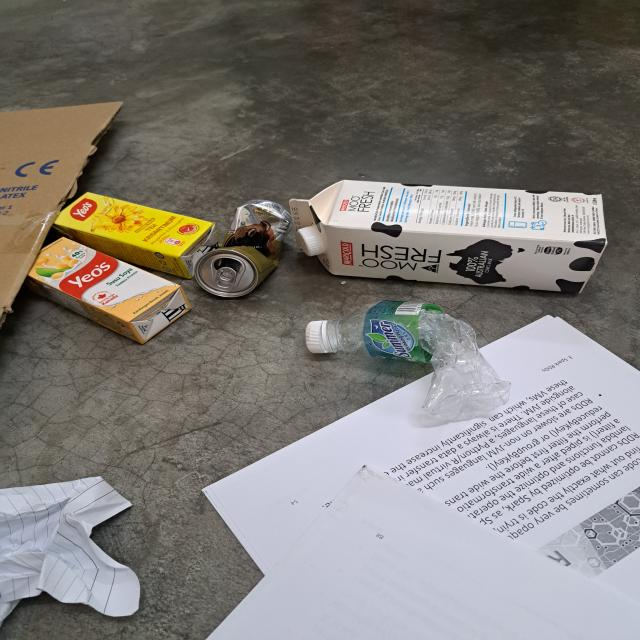can: (195, 199, 291, 298)
cardboard: (0, 101, 128, 323)
drink carton: (290, 179, 607, 297), (25, 237, 193, 344), (54, 190, 219, 278)
paper: (200, 318, 640, 581), (197, 470, 640, 639), (0, 476, 143, 624)
plastic bottle: (332, 301, 512, 420)
plastic bottle cap: (305, 320, 329, 354), (295, 228, 321, 257)
pop tab: (216, 267, 237, 290)
